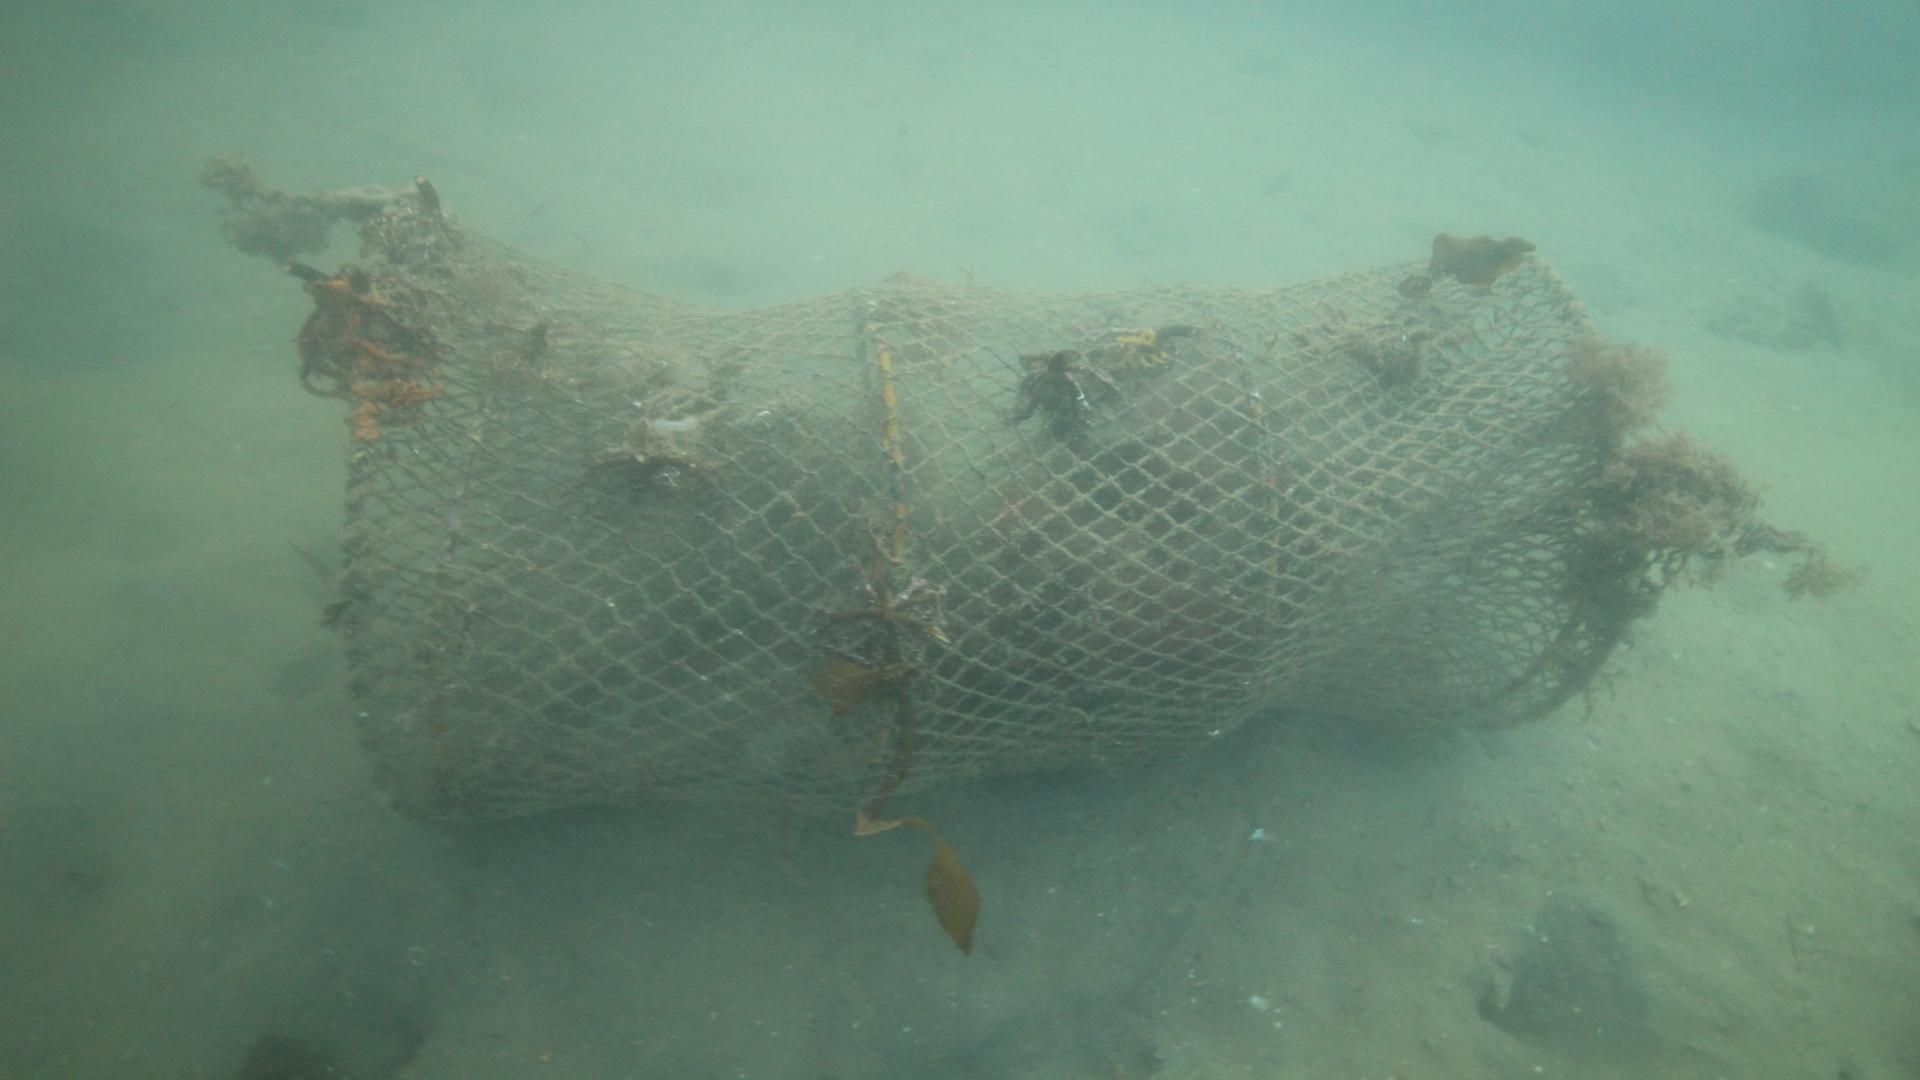spring fish trap: (335, 198, 1630, 824)
